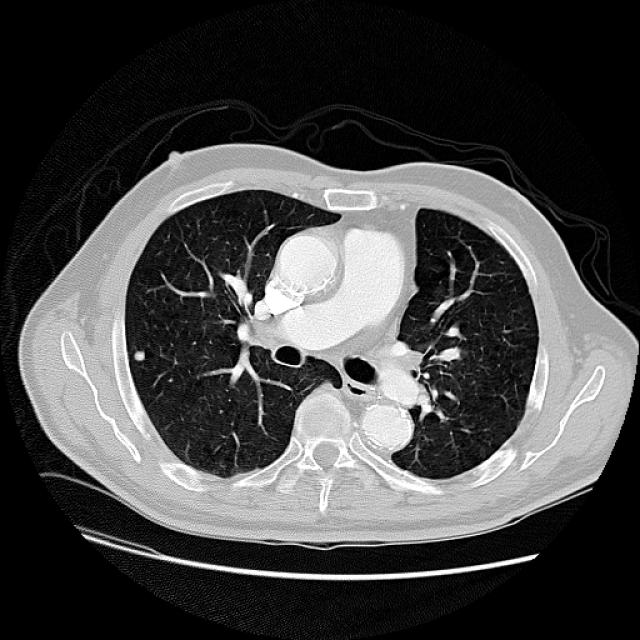nodule: (125, 341, 153, 369)
